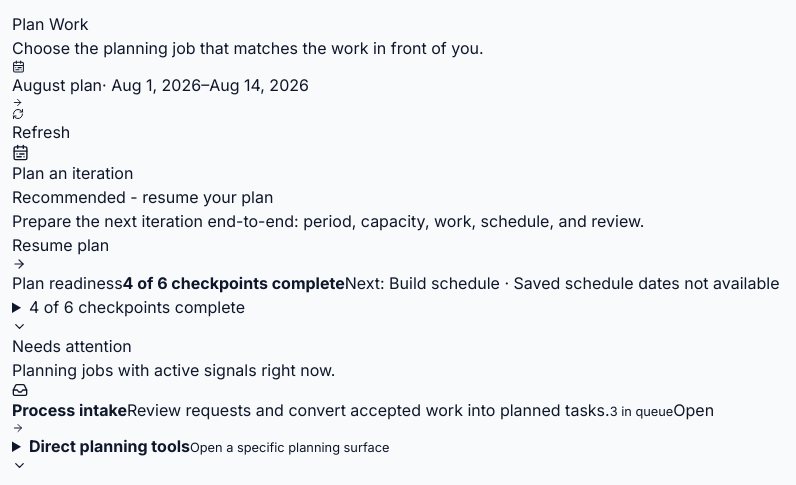
Test: PlanPage mixed planning launcher › keeps current content and names the recovery when refresh fails
What coordinates should you click on to do the following:
click the button "Refresh"
I would click on:
 (41, 126)
Its box is [12,108,70,144].
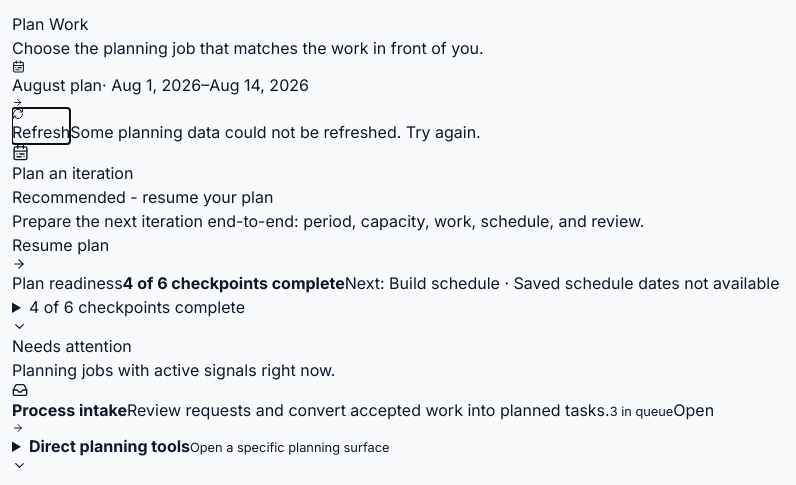
Expected: the heading "Plan an iteration" is shown, [12,163,133,183]
Result: the message reads "Some planning data could not be refreshed. Try again." at [70,122,481,142]
